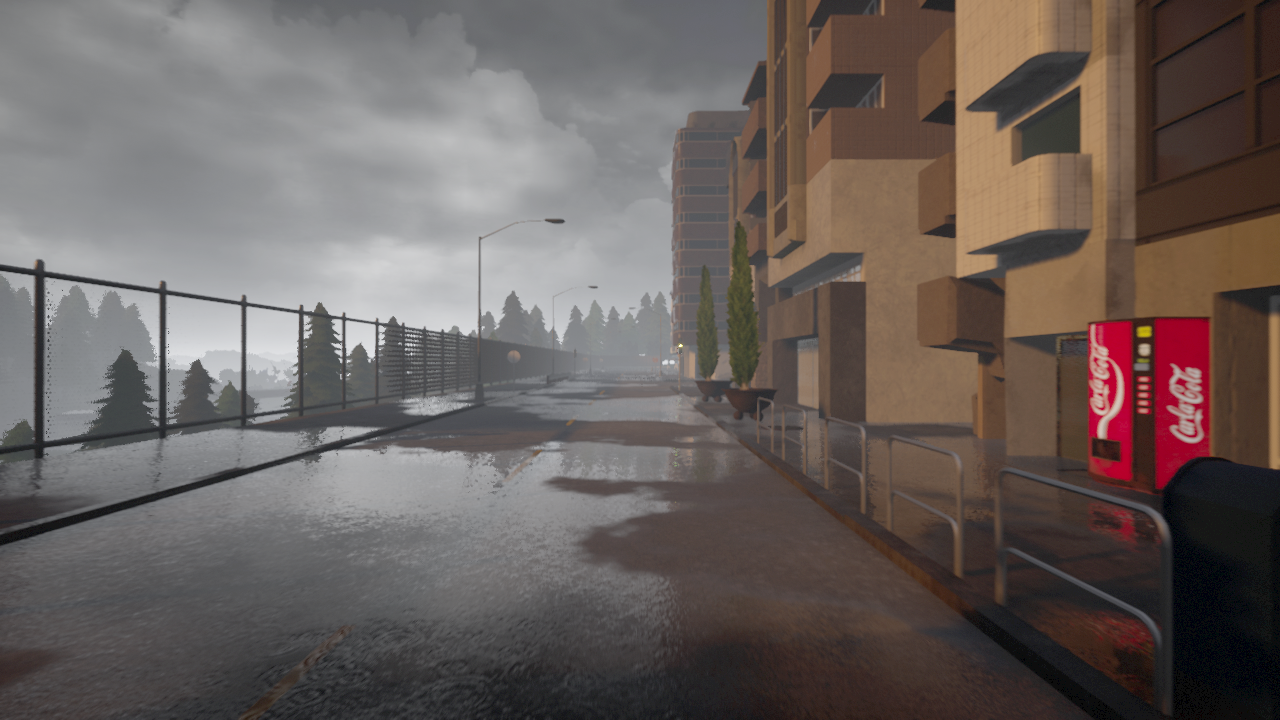yellow: (677, 338, 684, 355)
